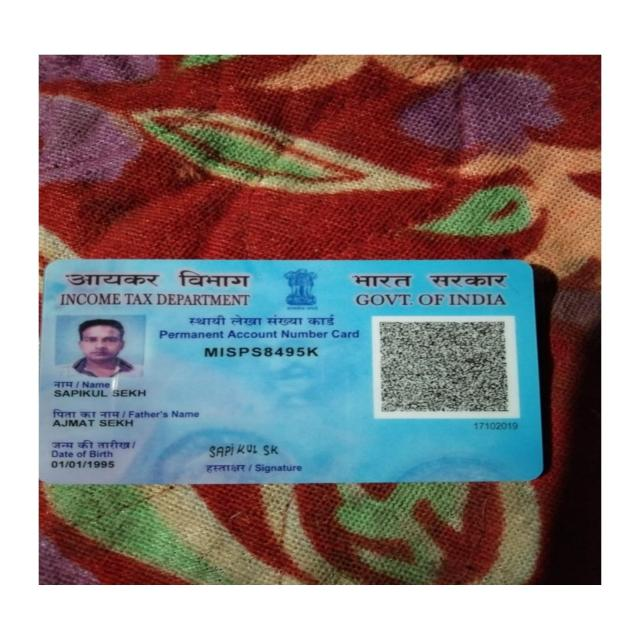pan_card: (43, 259, 538, 481)
